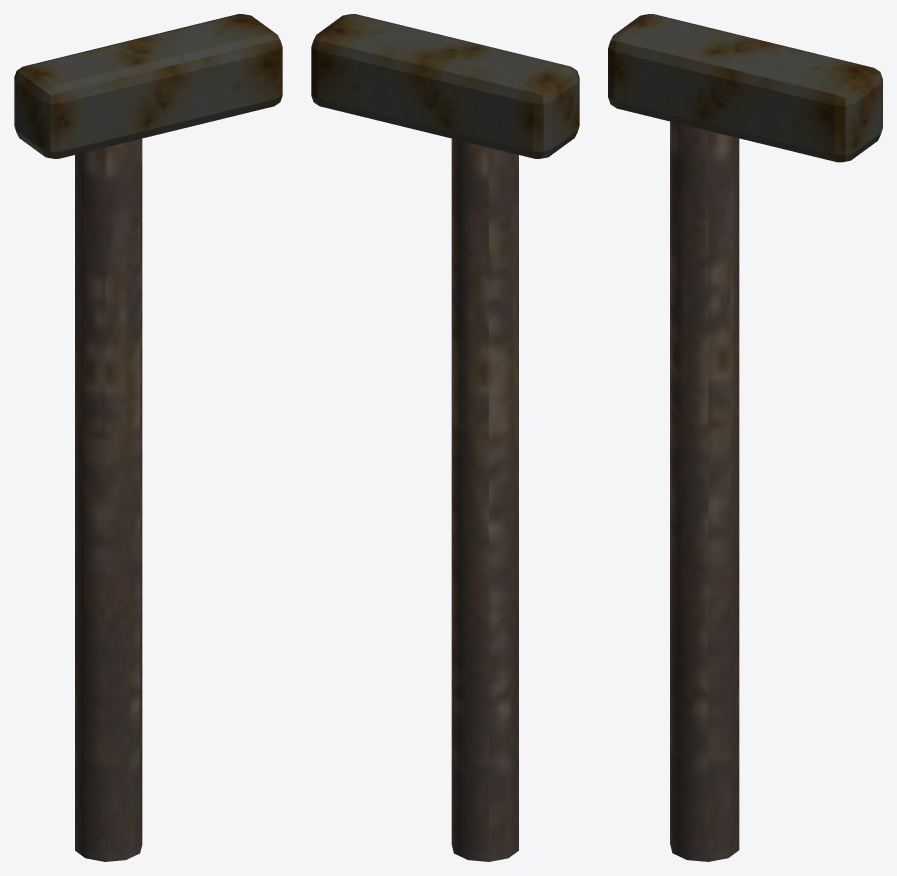
Rendered from hammer.glb.
3 views of the same model, side by side, from view 1: azimuth 30°, elevation 25°; view 2: azimuth 150°, elevation 25°; view 3: azimuth 330°, elevation 25° (orthographic). The views are drawn at different scales.
Visible parts, largest first — view 1: handle, head; view 2: handle, head; view 3: handle, head.
Part boxes in pixels (<box>): handle: <box>75,138,142,861</box>; head: <box>14,14,282,158</box>; handle: <box>451,138,518,861</box>; head: <box>311,14,579,158</box>; handle: <box>670,121,739,861</box>; head: <box>608,14,882,162</box>.
Size of the model in its own units: 0.12 by 0.3775 by 0.035.
2 materials, 2 textured.
